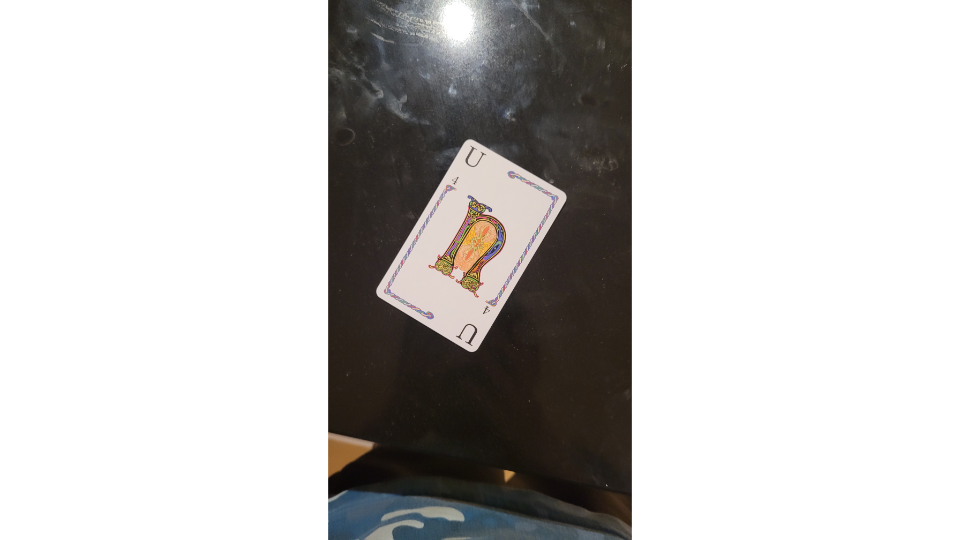U: (373, 137, 567, 355)
